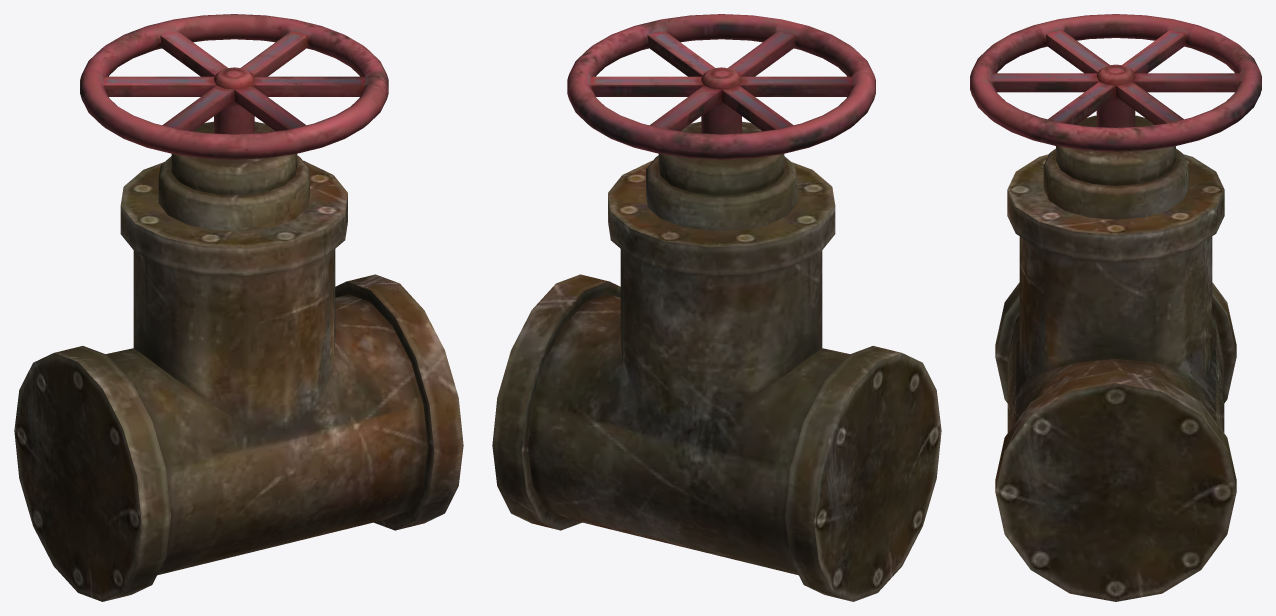
File: item_valve.glb
The picture shows the model from 3 angles, left to right: view 1: azimuth 30°, elevation 25°; view 2: azimuth 150°, elevation 25°; view 3: azimuth 270°, elevation 25°; orthographic projection. The views are drawn at different scales.
Visible parts, largest first — view 1: segmentT.001; view 2: segmentT.001; view 3: segmentT.001.
Boxes of the visible parts, left/top/right/bottom form: segmentT.001: left=14, top=14, right=463, bottom=601; segmentT.001: left=492, top=14, right=941, bottom=601; segmentT.001: left=970, top=14, right=1261, bottom=601.
Bounding box in the file's own units: 1.54 × 2.21 × 1.28.
1 material, 1 textured.
